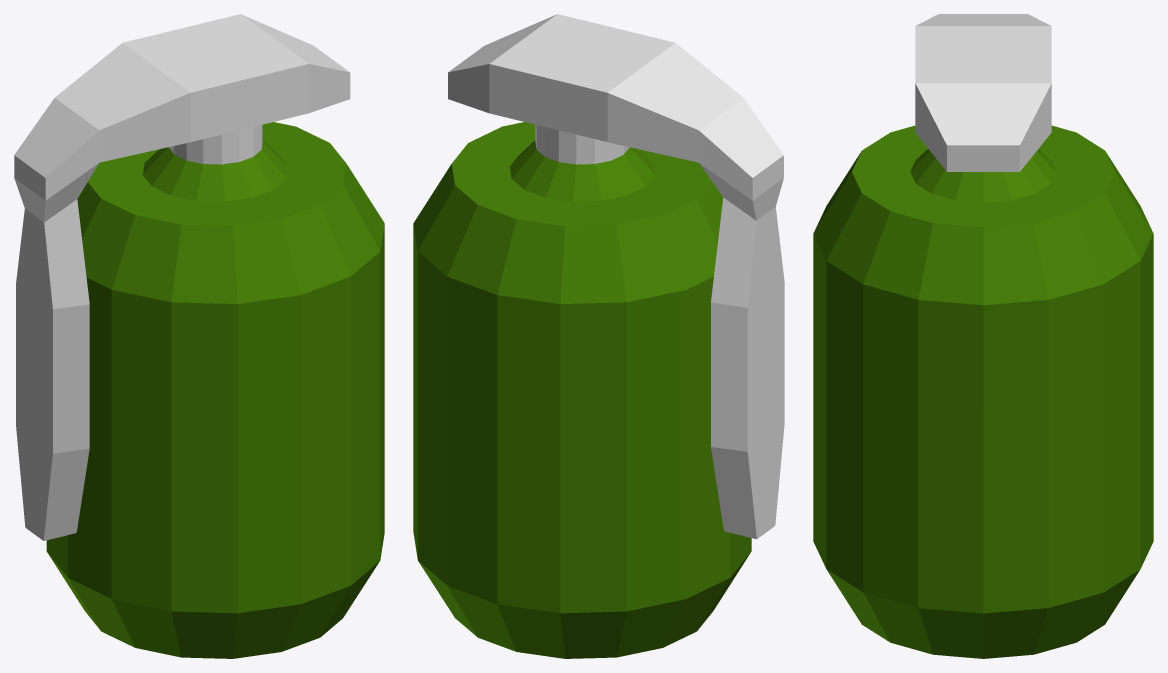
Rendered from Г1 Граната стандартная.fbx.
3 renders of one model, left to right at view 1: azimuth 30°, elevation 25°; view 2: azimuth 150°, elevation 25°; view 3: azimuth 270°, elevation 25°, orthographic.
Parts seen in each view (by area): view 1: Cylinder, Cube; view 2: Cylinder, Cube; view 3: Cylinder, Cube.
Part boxes in pixels (x1,y1,x2,y2): Cylinder: (46, 122, 384, 658); Cube: (14, 14, 350, 540); Cylinder: (413, 122, 751, 658); Cube: (448, 14, 784, 539); Cylinder: (813, 125, 1153, 658); Cube: (915, 14, 1051, 171).
Size of the model in its own units: 113 by 178 by 100.
